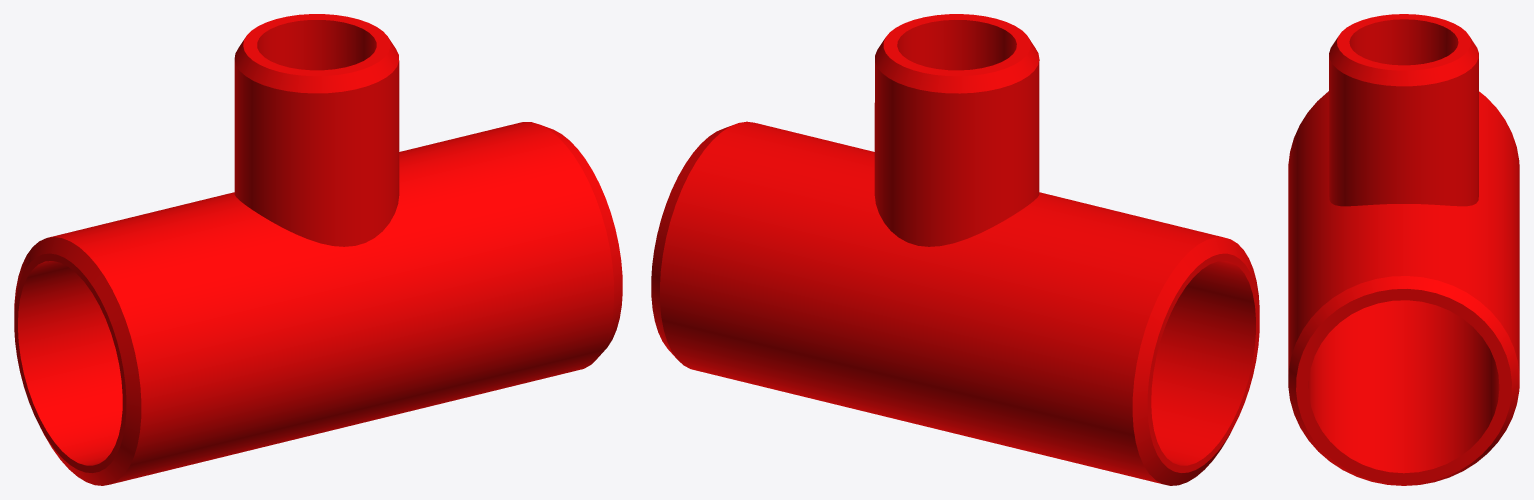
The model's file is 异径三通.obj.
3 views of the same model, side by side, from view 1: azimuth 30°, elevation 25°; view 2: azimuth 150°, elevation 25°; view 3: azimuth 270°, elevation 25° (orthographic). The views are drawn at different scales.
Parts seen in each view (by area): view 1: BRep_1; view 2: BRep_1; view 3: BRep_1.
Boxes of the visible parts, x1,y1,x2,y2 form: BRep_1: (14, 14, 622, 485); BRep_1: (651, 14, 1259, 485); BRep_1: (1288, 14, 1519, 485).
Bounding box in the file's own units: 76 × 55 × 33.96.
